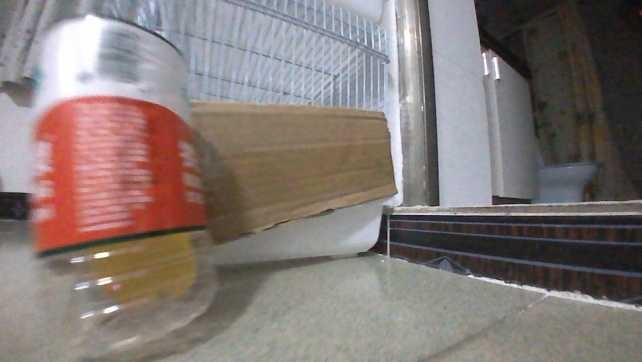door_sill: (388, 200, 641, 303)
toilet: (535, 158, 595, 200)
